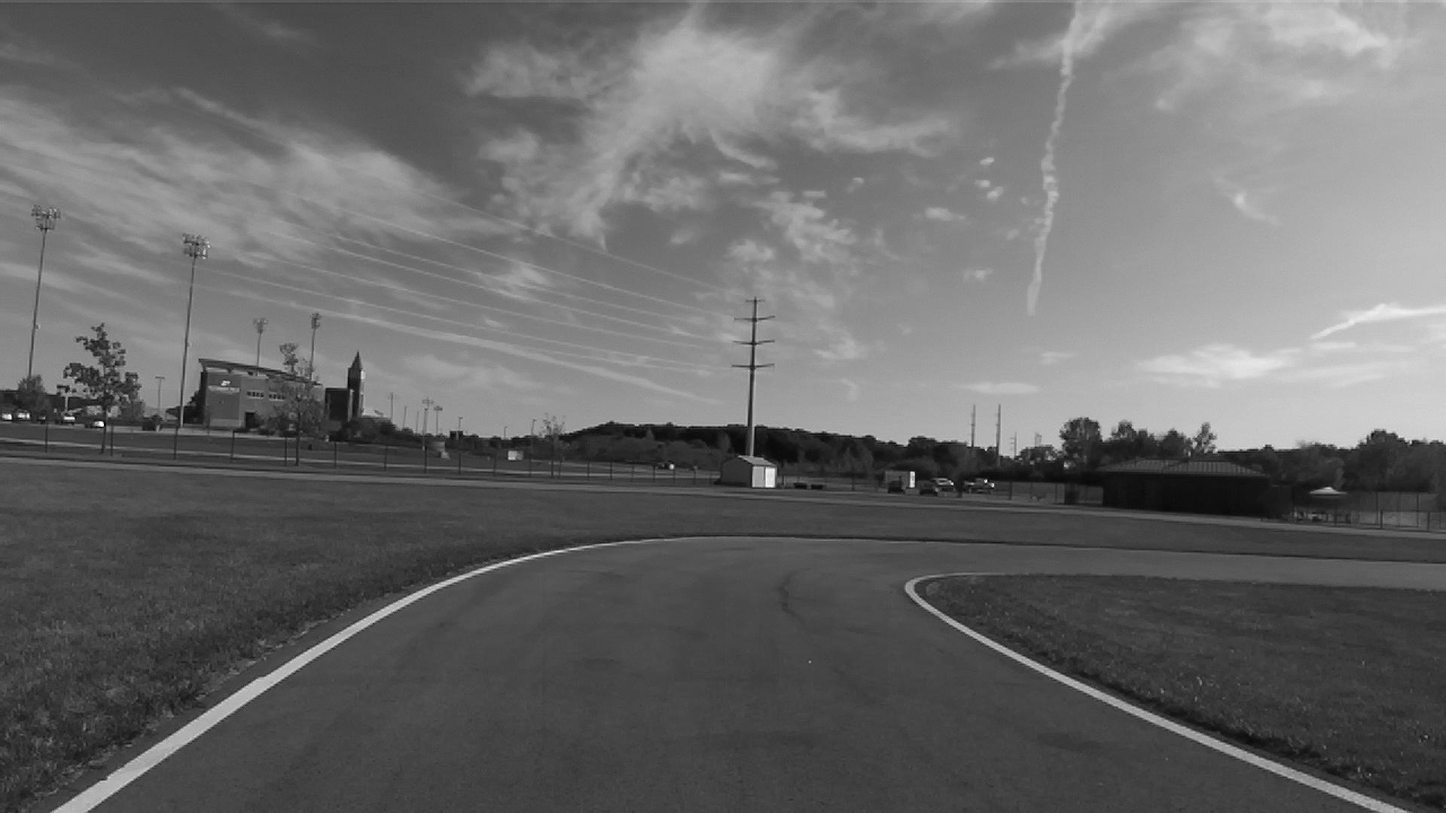white-line: (51, 537, 721, 812), (904, 572, 1405, 812)
